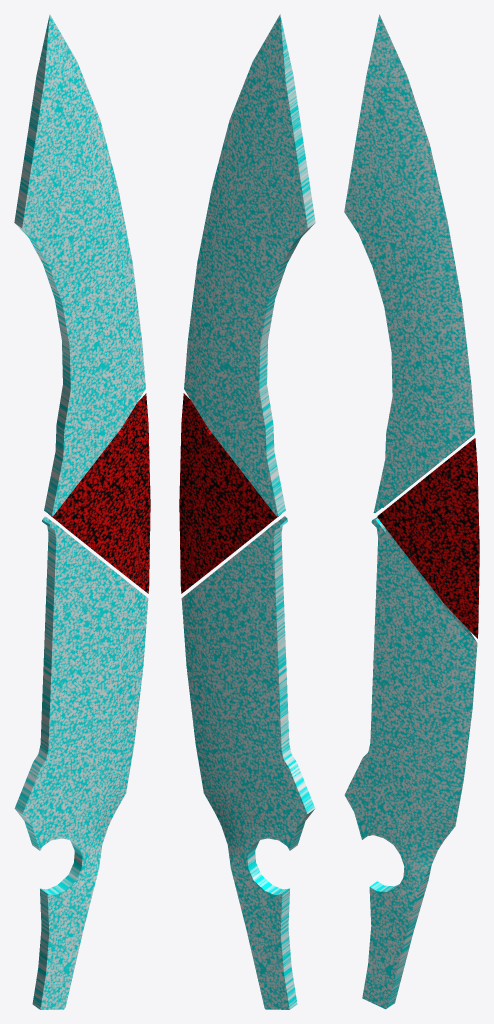
The model's file is SM_Sword_02_GDH.fbx.
3 views of the same model, side by side, from view 1: azimuth 30°, elevation 25°; view 2: azimuth 150°, elevation 25°; view 3: azimuth 330°, elevation 25° (orthographic).
Visible parts, largest first — view 1: SM_Sword_02_GDH; view 2: SM_Sword_02_GDH; view 3: SM_Sword_02_GDH.
Boxes of the visible parts, <box> form: SM_Sword_02_GDH: <box>14,14,150,1009</box>; SM_Sword_02_GDH: <box>179,14,315,1009</box>; SM_Sword_02_GDH: <box>344,14,479,1009</box>.
Bounding box in the file's own units: 7.65 × 54.98 × 0.7805.
